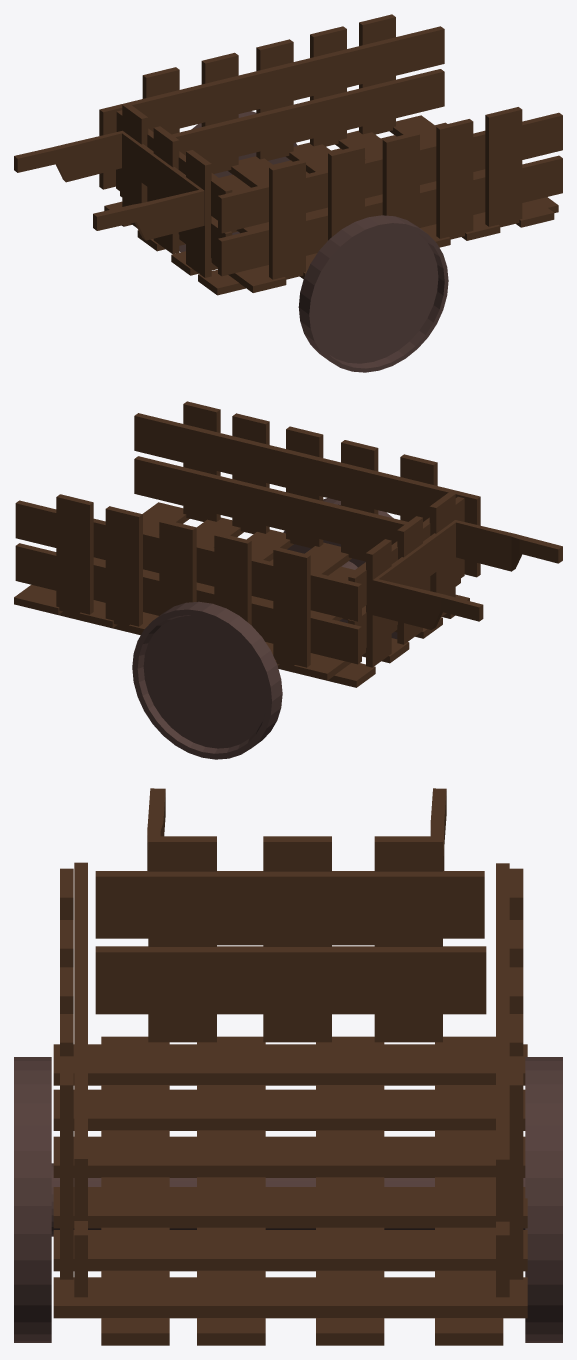
The model's file is kart.fbx.
3 renders of one model, top to bottom at view 1: azimuth 30°, elevation 25°; view 2: azimuth 150°, elevation 25°; view 3: azimuth 270°, elevation 25°, orthographic. The views are drawn at different scales.
Visible parts, largest first — view 1: Cube; view 2: Cube; view 3: Cube.
Part boxes in pixels (x1=…): Cube: x1=14, y1=14, x2=562, y2=372; Cube: x1=14, y1=401, x2=562, y2=759; Cube: x1=14, y1=788, x2=562, y2=1345.
Size of the model in its own units: 3274 by 1492 by 1953.
